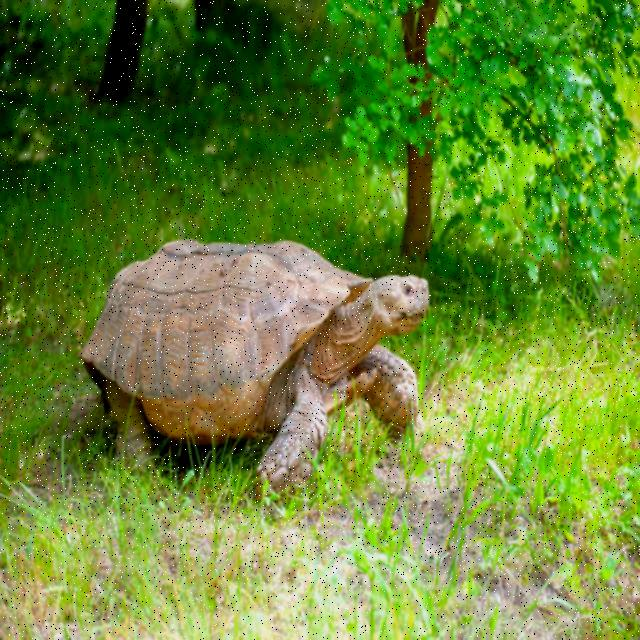tortoise: (76, 218, 440, 504)
